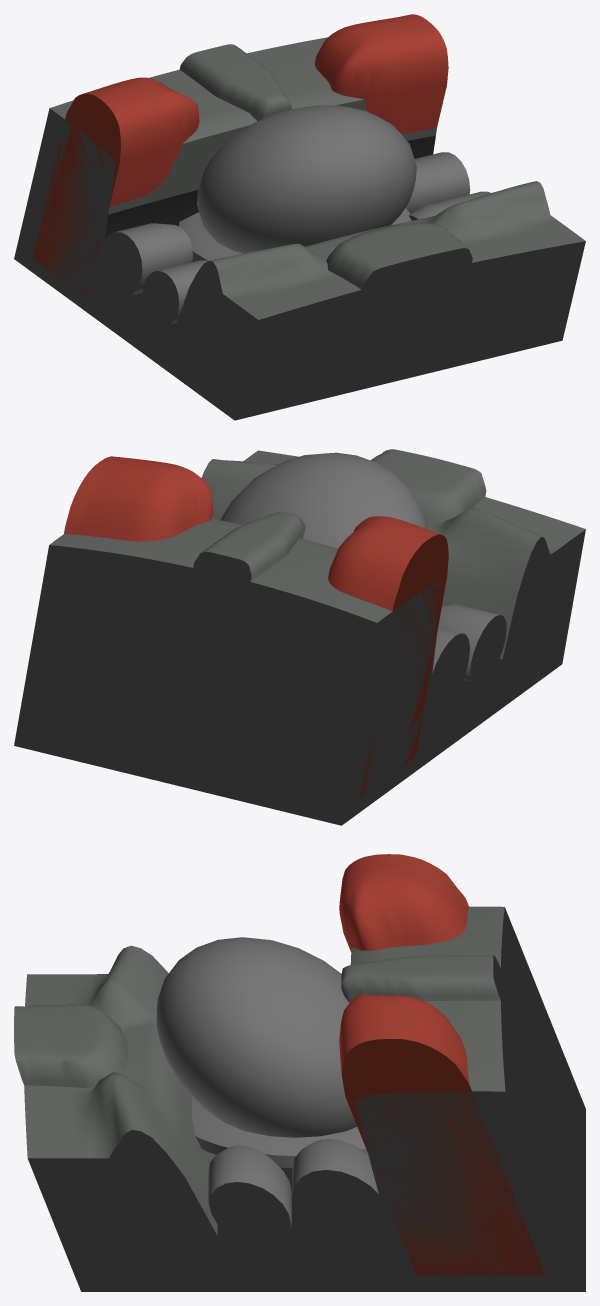
File: dome_head_49.glb
3 renders of one model, top to bottom at view 1: azimuth 30°, elevation 25°; view 2: azimuth 150°, elevation 25°; view 3: azimuth 270°, elevation 25°, orthographic. The views are drawn at different scales.
Visible parts, largest first — view 1: dome_head_49; view 2: dome_head_49; view 3: dome_head_49.
Boxes of the visible parts, left/top/right/bottom form: dome_head_49: left=14, top=14, right=585, bottom=420; dome_head_49: left=14, top=449, right=585, bottom=825; dome_head_49: left=14, top=854, right=585, bottom=1291.
Size of the model in its own units: 24 by 15.89 by 31.73.
